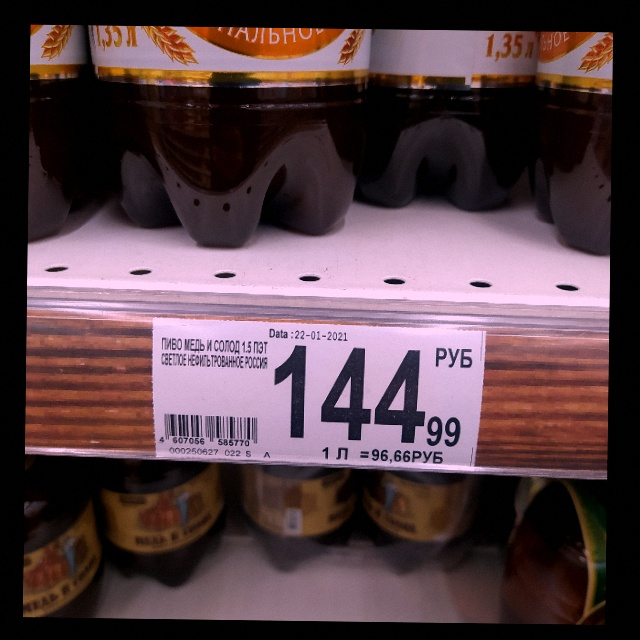barcode: (158, 412, 261, 450)
name: (157, 334, 271, 373)
price: (271, 343, 465, 448)
price_tag: (148, 316, 490, 470)
